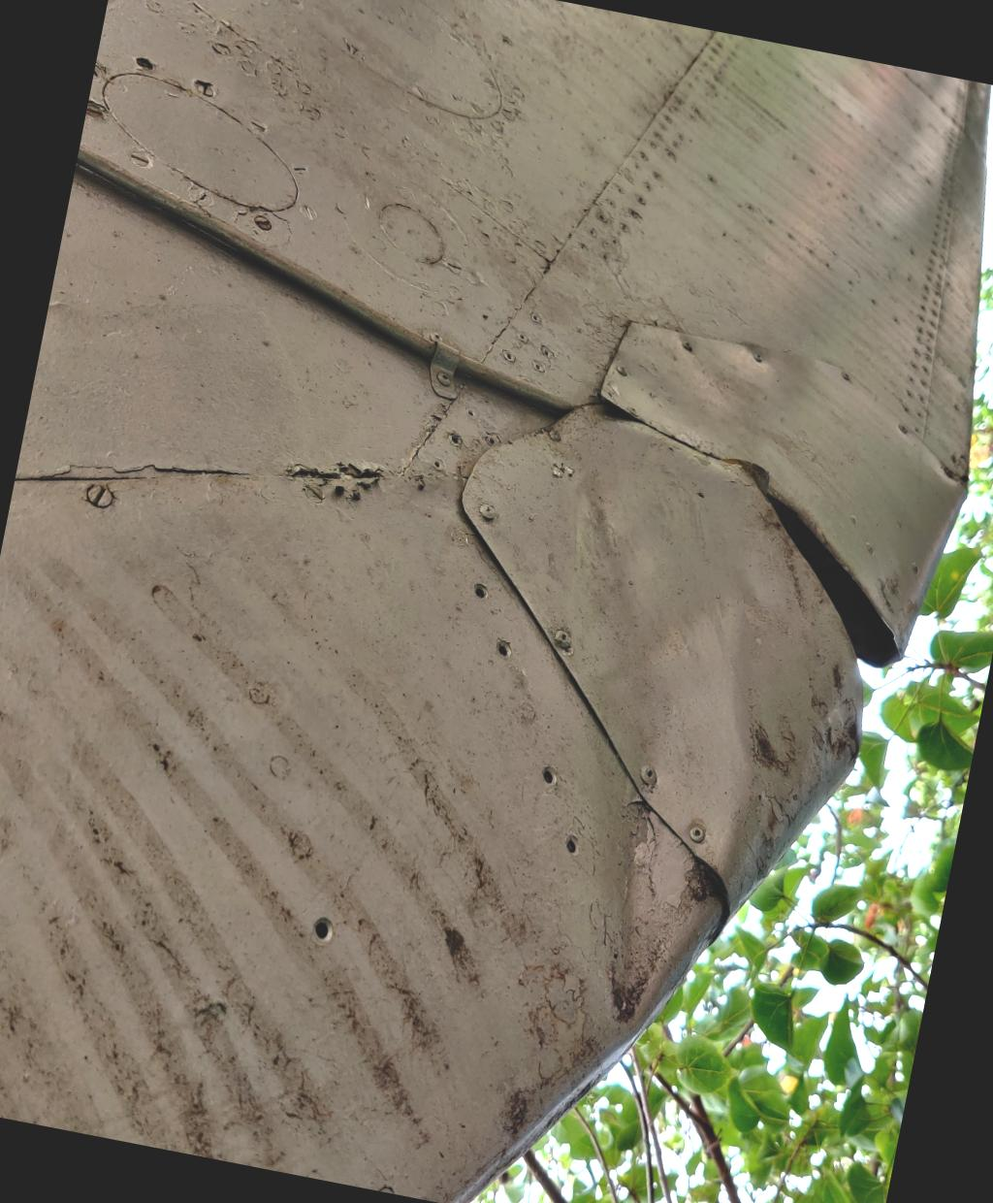dent: (457, 416, 865, 995)
